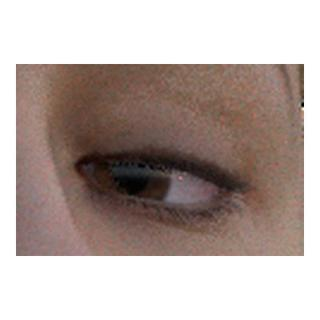pupil: (114, 160, 147, 194)
